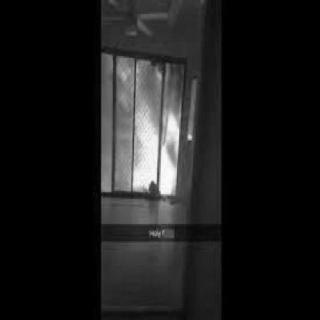Fire: (116, 66, 180, 196)
